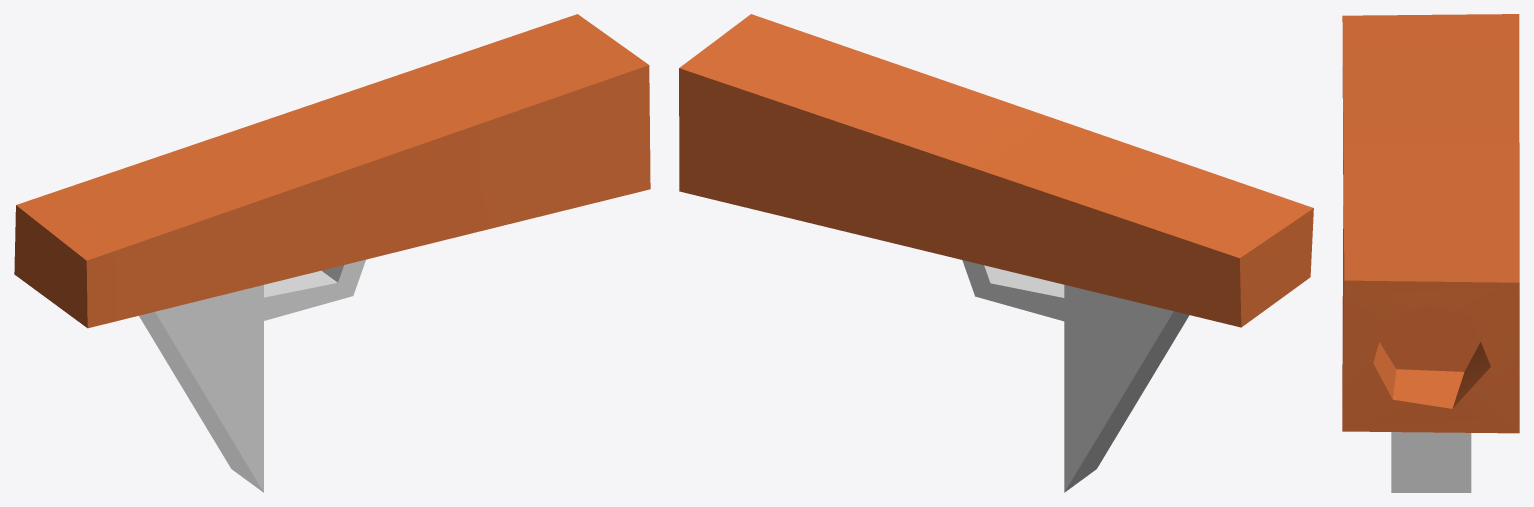
Rendered from gun.fbx.
3 renders of one model, left to right at view 1: azimuth 30°, elevation 25°; view 2: azimuth 150°, elevation 25°; view 3: azimuth 270°, elevation 25°, orthographic. The views are drawn at different scales.
Parts seen in each view (by area): view 1: Cube; view 2: Cube; view 3: Cube.
Boxes of the visible parts, bbox=[...] form: Cube: bbox=[14, 14, 650, 492]; Cube: bbox=[679, 14, 1313, 492]; Cube: bbox=[1342, 14, 1519, 492].
Size of the model in its own units: 436 by 97.51 by 260.
